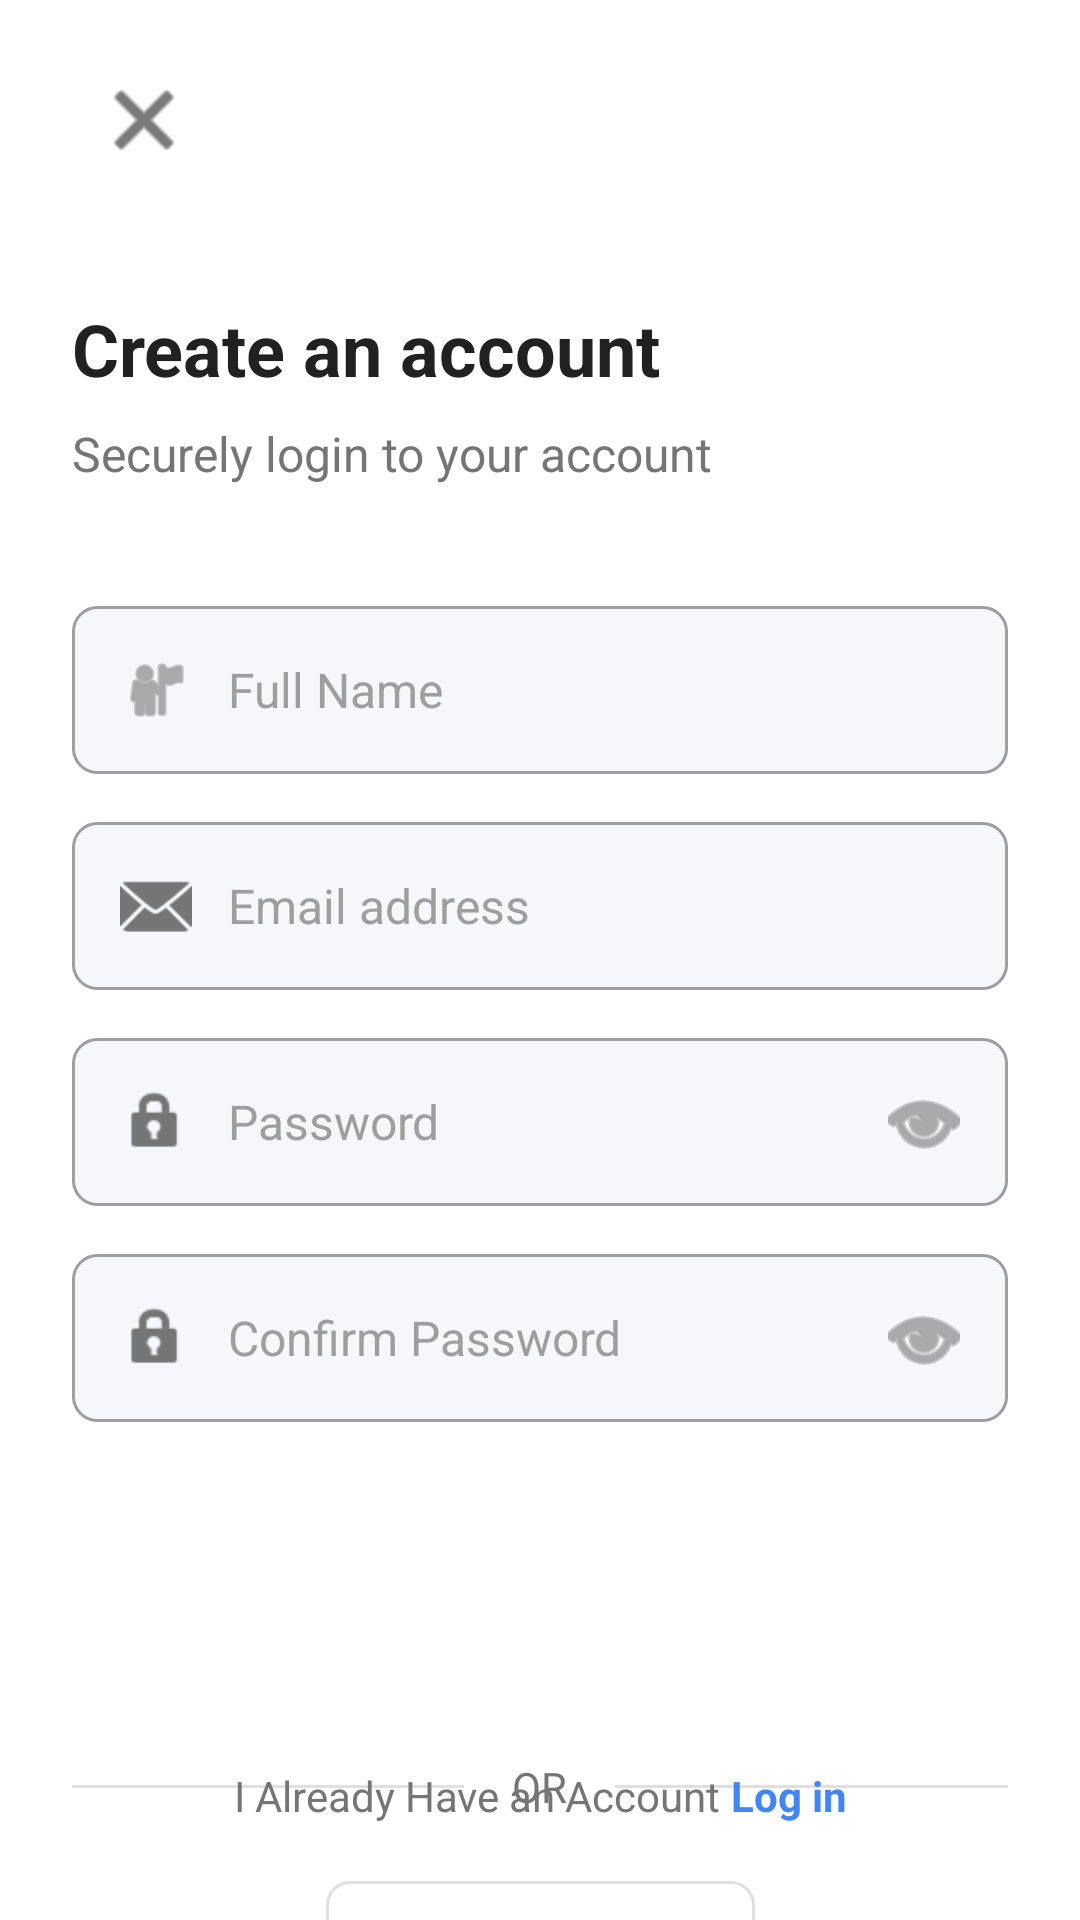

Locate icon controls on the screen. Image size 1080w x 1920h, boxes as (x1, y1, x2, y2).
Close: (114, 90, 174, 150)
